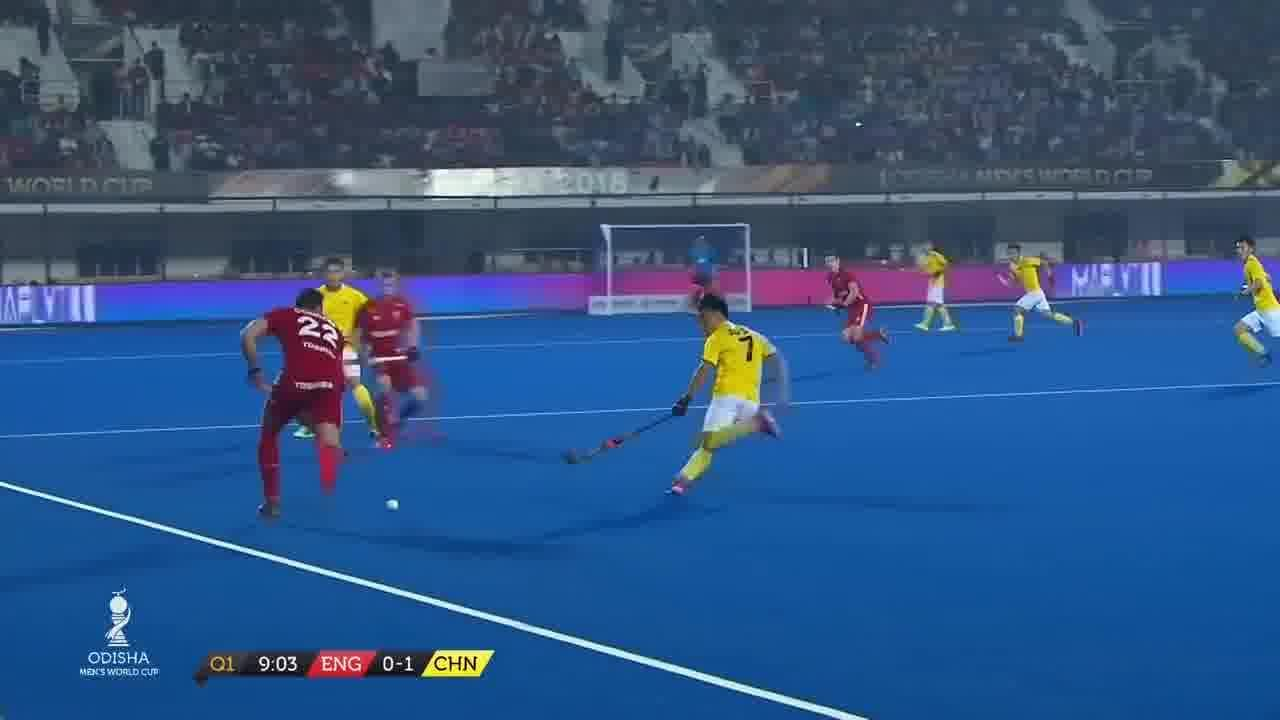ball: (384, 499, 402, 514)
